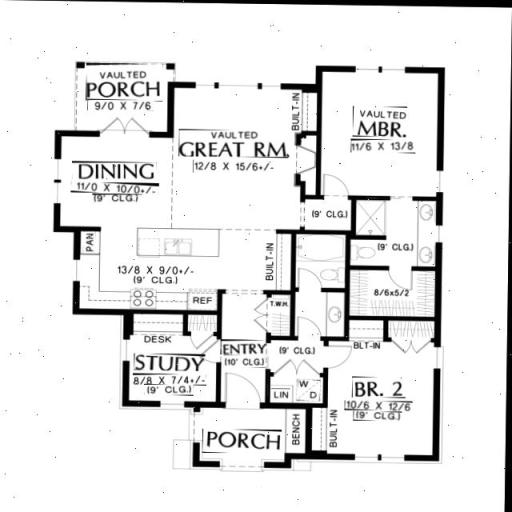Room: (322, 74, 442, 203), (132, 310, 227, 412)
bedroom: (329, 350, 434, 460)
hall: (62, 140, 297, 228)
porch: (72, 67, 174, 129), (192, 409, 289, 469)
